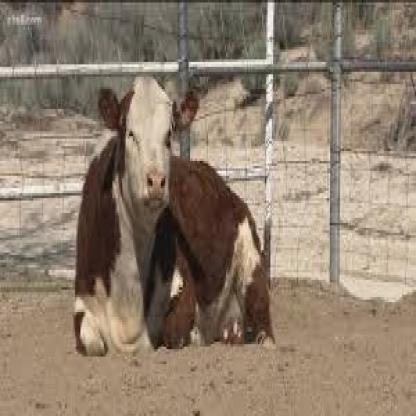cow: (73, 73, 276, 358)
